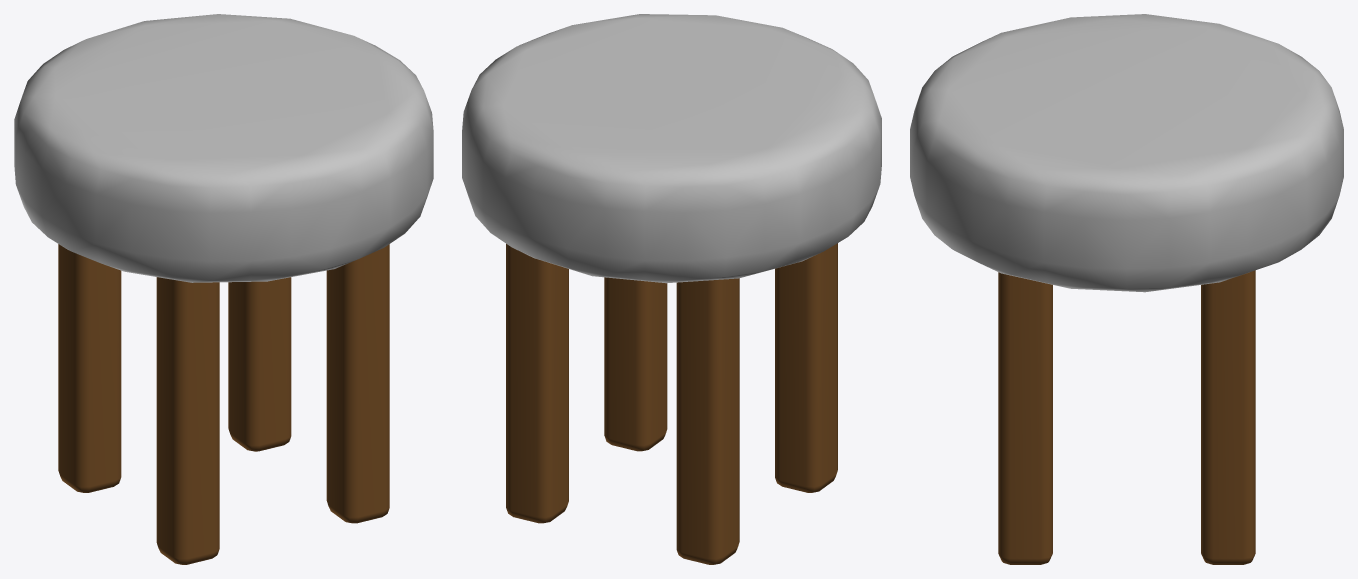
File: stool_07_white.fbx
3 views of the same model, side by side, from view 1: azimuth 30°, elevation 25°; view 2: azimuth 150°, elevation 25°; view 3: azimuth 270°, elevation 25° (orthographic). The views are drawn at different scales.
Parts seen in each view (by area): view 1: stool_07_white; view 2: stool_07_white; view 3: stool_07_white.
Boxes of the visible parts, x1=… form: stool_07_white: x1=14, y1=14, x2=433, y2=564; stool_07_white: x1=462, y1=14, x2=881, y2=564; stool_07_white: x1=910, y1=14, x2=1343, y2=564.
Size of the model in its own units: 41.86 by 45 by 41.87.
1 material, 1 textured.
